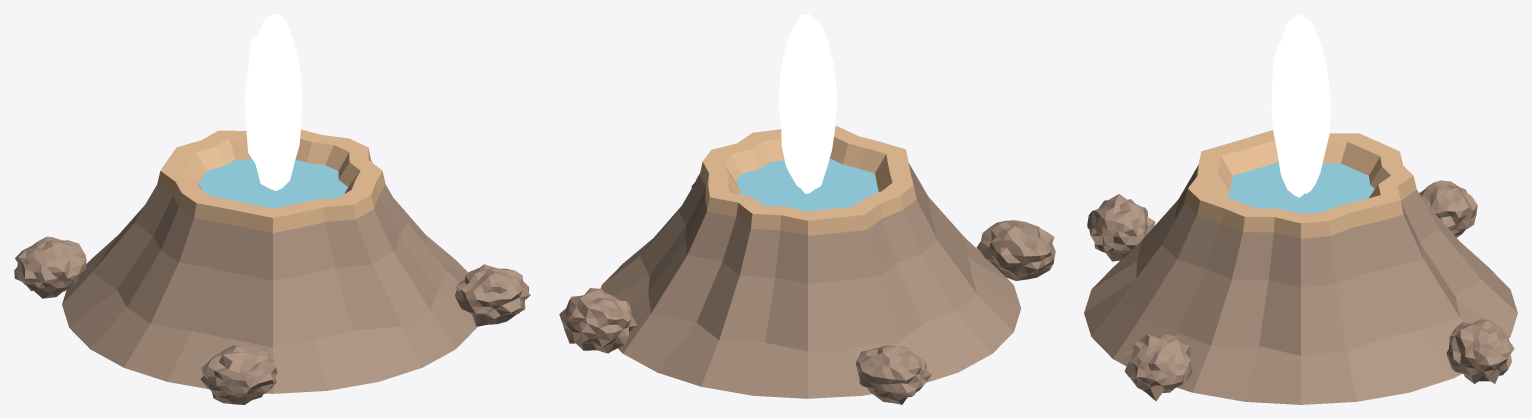
File: GeyserVent.glb
3 renders of one model, left to right at view 1: azimuth 30°, elevation 25°; view 2: azimuth 150°, elevation 25°; view 3: azimuth 270°, elevation 25°, orthographic. The views are drawn at different scales.
Parts seen in each view (by area): view 1: GeyserVent; view 2: GeyserVent; view 3: GeyserVent.
Boxes of the visible parts, box(x1,y1,x2,y2) form: GeyserVent: box(14, 14, 530, 404); GeyserVent: box(559, 14, 1055, 404); GeyserVent: box(1084, 14, 1517, 404).
Bounding box in the file's own units: 14.19 × 10.65 × 14.
